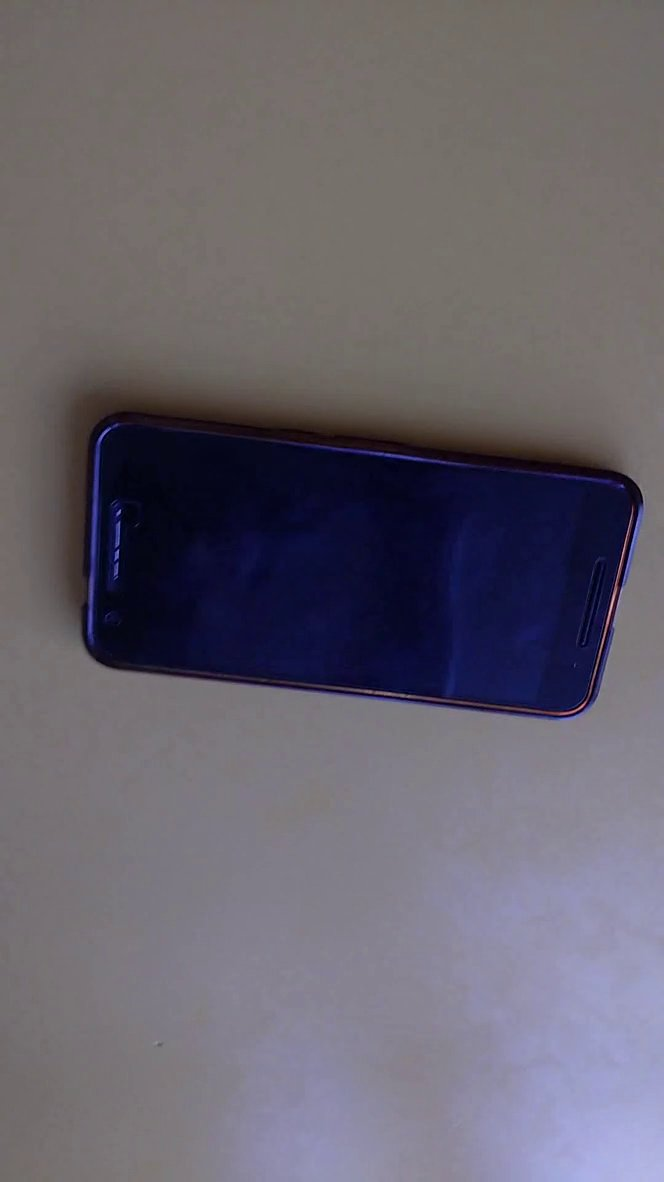phone: (73, 376, 657, 745)
